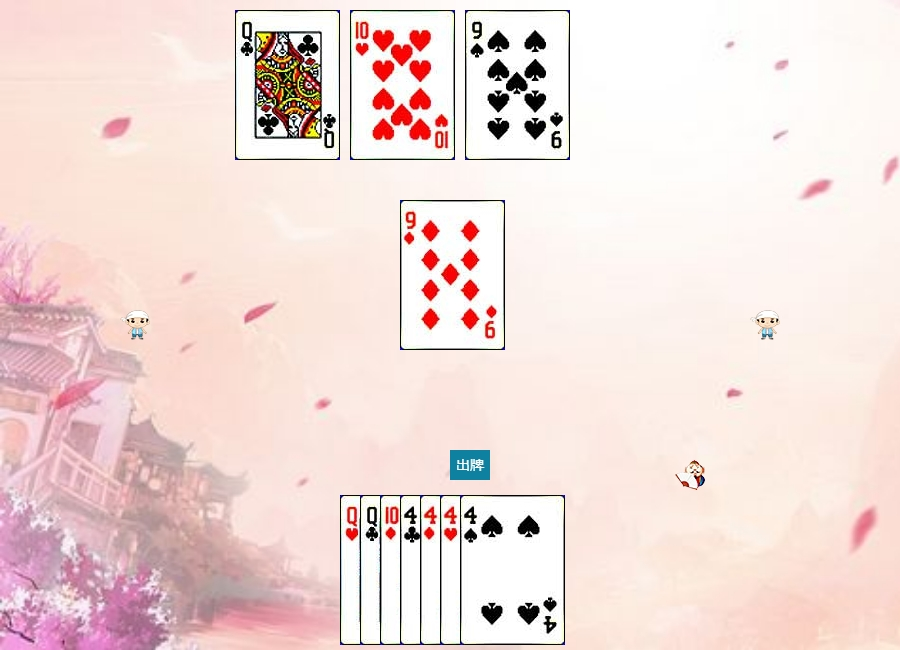10~1: (380, 495, 485, 645)
10~3: (350, 10, 455, 160)
12~2: (235, 10, 340, 160), (360, 495, 465, 645)
12~3: (340, 495, 445, 645)
4~1: (420, 495, 525, 645)
4~2: (400, 495, 505, 645)
4~3: (440, 495, 545, 645)
4~4: (460, 495, 565, 645)
9~1: (400, 200, 505, 350)
9~4: (465, 10, 570, 160)
